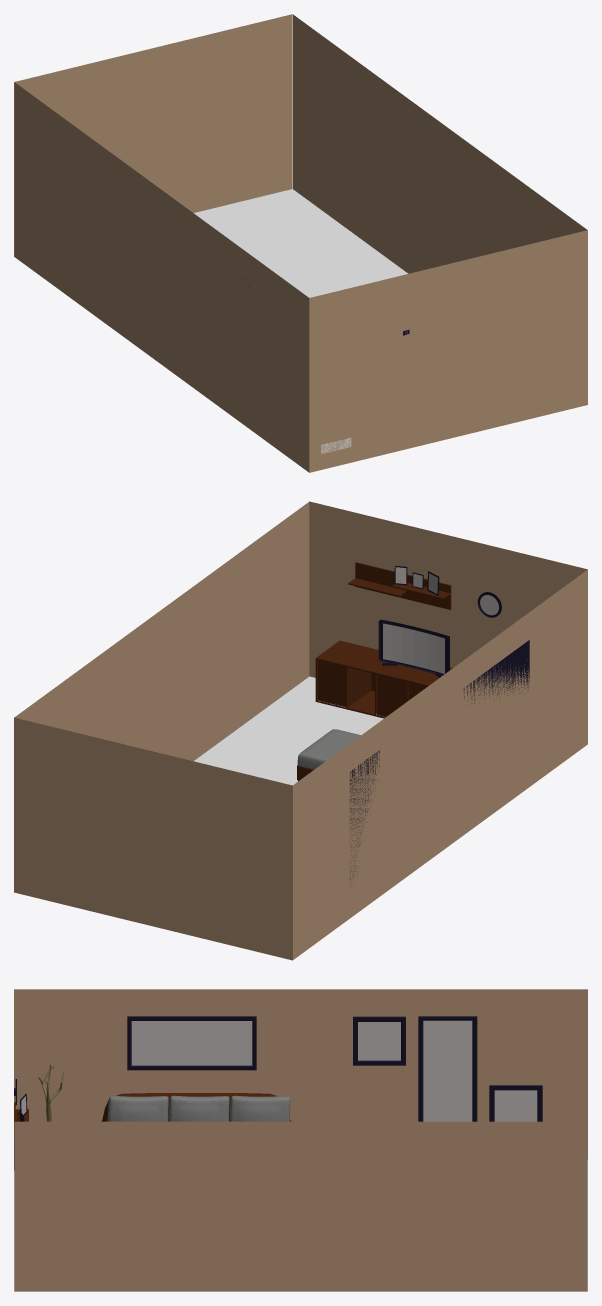
Rendered from Interior.fbx.
The picture shows the model from 3 angles, top to bottom: view 1: azimuth 30°, elevation 25°; view 2: azimuth 150°, elevation 25°; view 3: azimuth 270°, elevation 25°; orthographic projection. The views are drawn at different scales.
Parts seen in each view (by area): view 1: room_walls_0, room_walls_0.001; view 2: room_walls_0, room_walls_0.001; view 3: room_walls_0.
Part boxes in pixels (left/top/right/bottom): room_walls_0: left=14, top=14, right=587, bottom=472; room_walls_0.001: left=194, top=189, right=408, bottom=297; room_walls_0: left=14, top=501, right=587, bottom=960; room_walls_0.001: left=194, top=676, right=384, bottom=785; room_walls_0: left=14, top=989, right=587, bottom=1291.
Size of the model in its own units: 11149 by 6681 by 20437.
